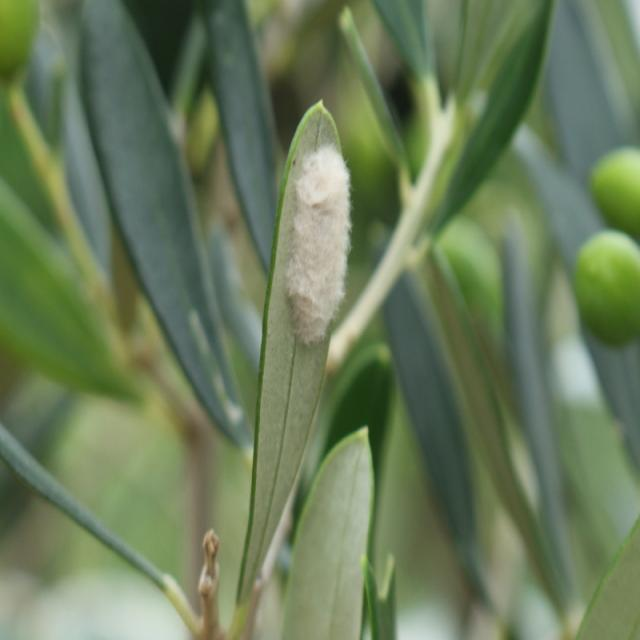Psyllid: (259, 113, 350, 443)
